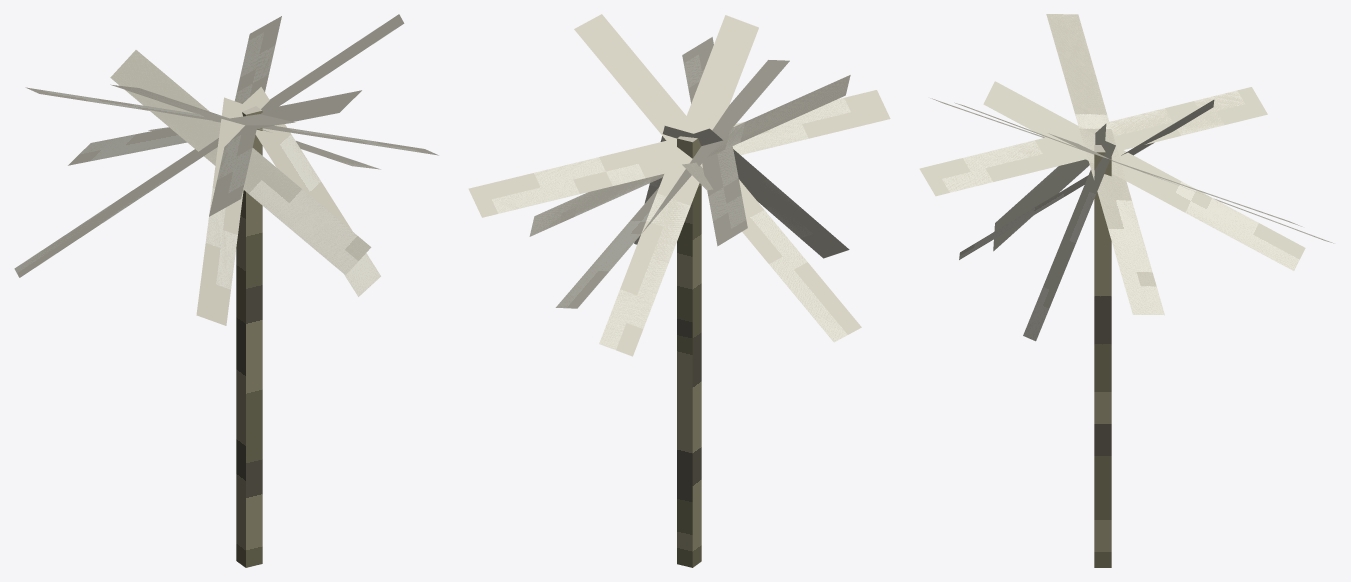
File: mushroom_umbrella.obj
3 views of the same model, side by side, from view 1: azimuth 30°, elevation 25°; view 2: azimuth 150°, elevation 25°; view 3: azimuth 270°, elevation 25° (orthographic). The views are drawn at different scales.
Parts seen in each view (by area): view 1: cube; view 2: cube; view 3: cube.
Boxes of the visible parts, x1=… form: cube: x1=14, y1=14, x2=438, y2=567; cube: x1=468, y1=14, x2=890, y2=567; cube: x1=919, y1=14, x2=1334, y2=567.
Bounding box in the file's own units: 1.33 × 1.9 × 1.48.
Materials: 1 (1 with a texture image).
